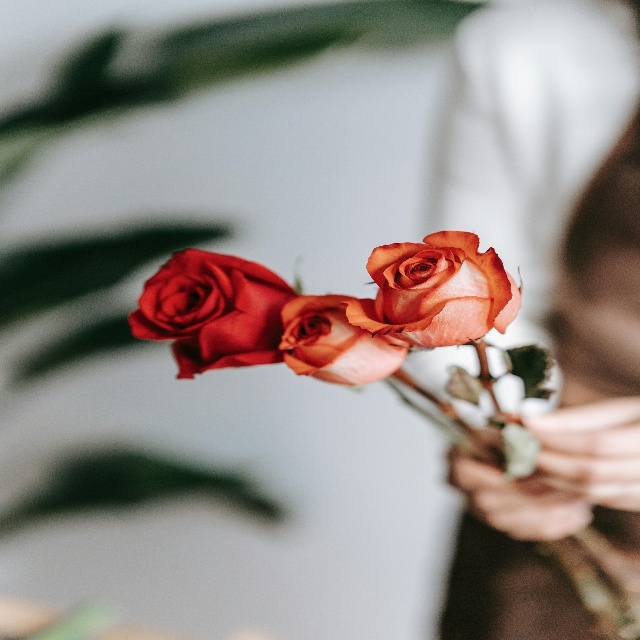Sin_guantes: (444, 435, 598, 544), (519, 393, 640, 512)
